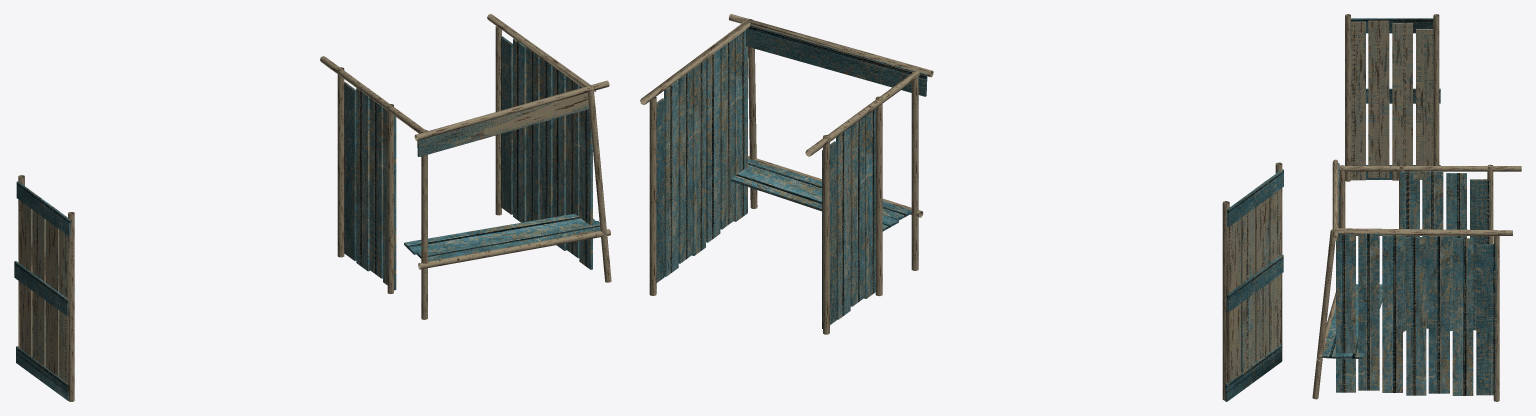
File: shop.fbx
3 views of the same model, side by side, from view 1: azimuth 30°, elevation 25°; view 2: azimuth 150°, elevation 25°; view 3: azimuth 270°, elevation 25° (orthographic). The views are drawn at different scales.
Visible parts, largest first — view 1: Group2, Group1; view 2: Group2, Group1; view 3: Group2, Group1.
Part boxes in pixels (left/top/right/bottom): Group2: left=320, top=14, right=611, bottom=319; Group1: left=14, top=175, right=74, bottom=401; Group2: left=640, top=14, right=933, bottom=334; Group1: left=1222, top=162, right=1283, bottom=401; Group2: left=1312, top=159, right=1521, bottom=401; Group1: left=1345, top=14, right=1440, bottom=181.
Bounding box in the file's own units: 485 × 171 × 186.
